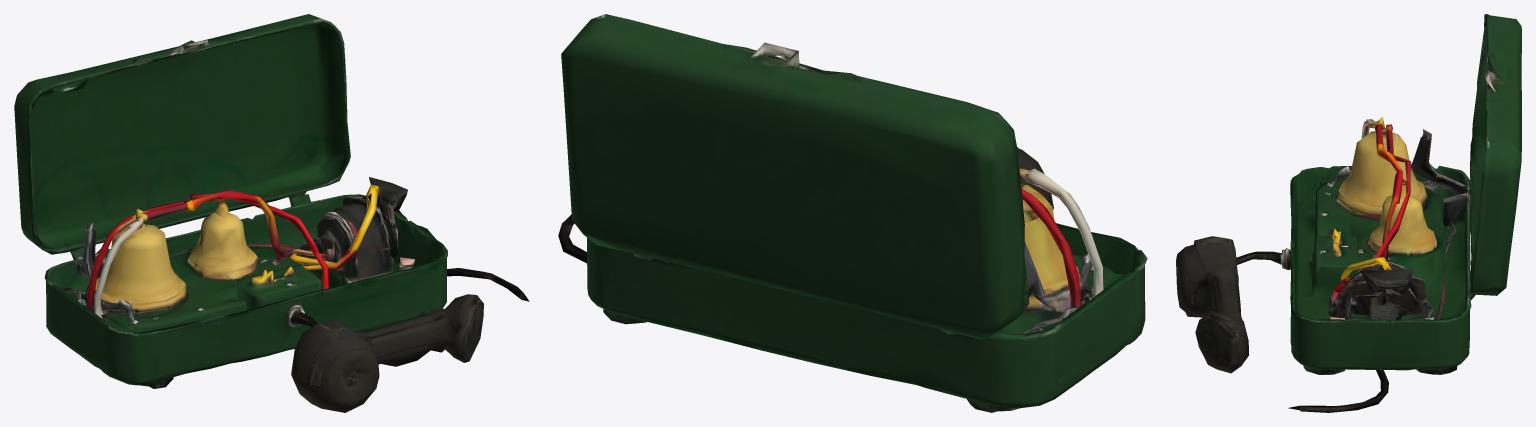
Rendered from telephone.glb.
3 renders of one model, left to right at view 1: azimuth 30°, elevation 25°; view 2: azimuth 150°, elevation 25°; view 3: azimuth 270°, elevation 25°, orthographic. The views are drawn at different scales.
Visible parts, largest first — view 1: 電話機 3dモデル; view 2: 電話機 3dモデル; view 3: 電話機 3dモデル.
Part boxes in pixels (x1,y1,x2,y2): 電話機 3dモデル: (14, 14, 529, 412); 電話機 3dモデル: (558, 14, 1147, 412); 電話機 3dモデル: (1176, 14, 1521, 412).
Bounding box in the file's own units: 0.3177 × 0.19 × 0.2465.
Materials: 1 (1 with a texture image).
